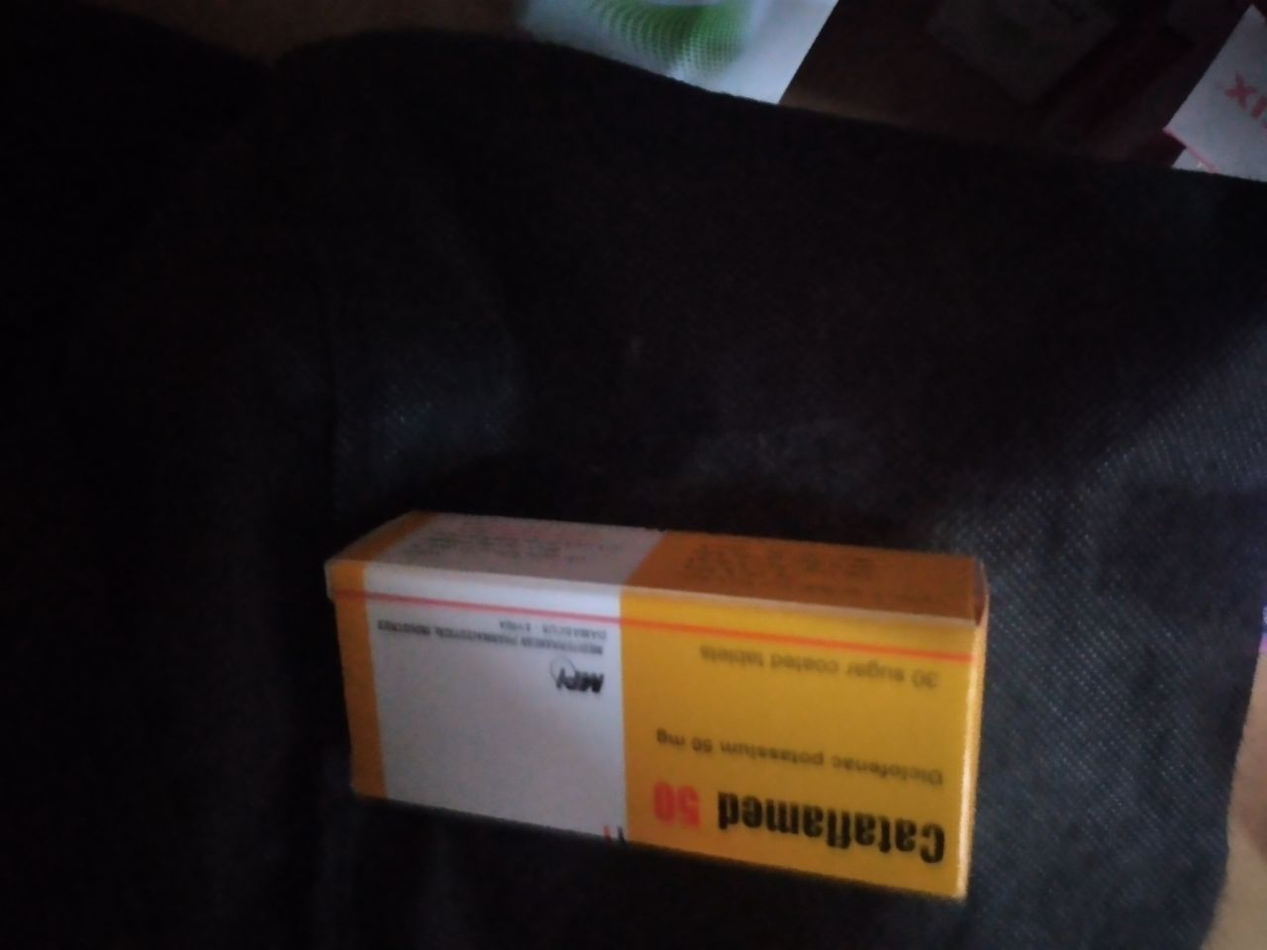Medicine: (327, 490, 1007, 915)
